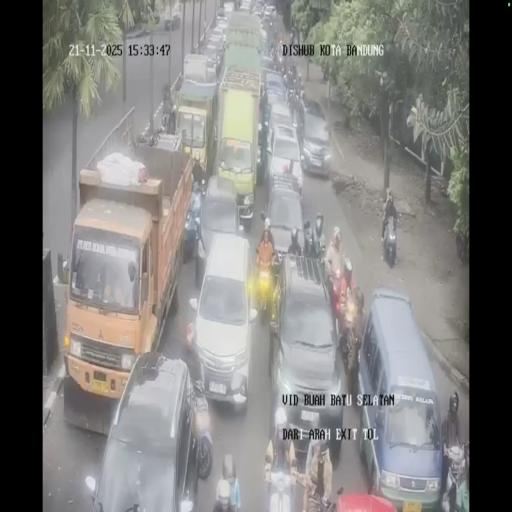car: (357, 290, 442, 504), (90, 351, 202, 510), (268, 257, 342, 455), (196, 174, 244, 268), (265, 122, 303, 198), (297, 101, 331, 178), (203, 28, 226, 72), (263, 68, 287, 106), (259, 48, 276, 74), (250, 0, 264, 16), (238, 0, 252, 13), (216, 4, 228, 19), (264, 4, 276, 18)
motorcycle: (254, 251, 280, 321), (382, 213, 398, 267), (288, 83, 302, 125), (302, 220, 315, 258), (273, 47, 285, 75)
truck: (172, 59, 218, 182), (163, 2, 181, 31)
